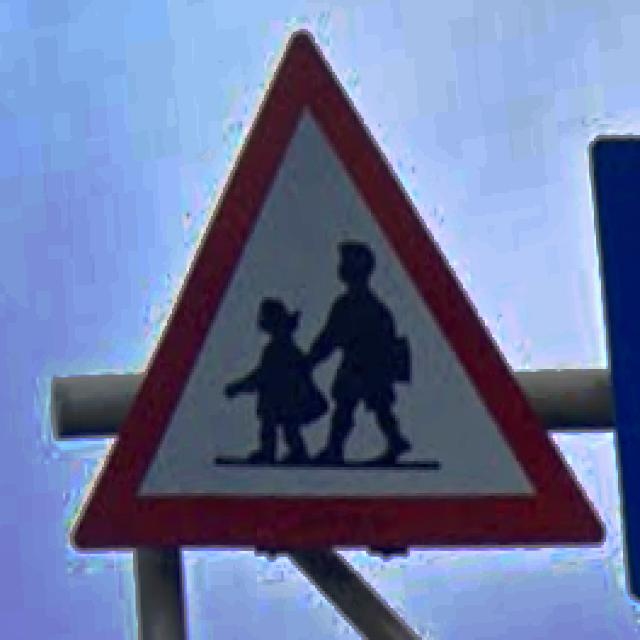childrencross: (73, 32, 603, 548)
